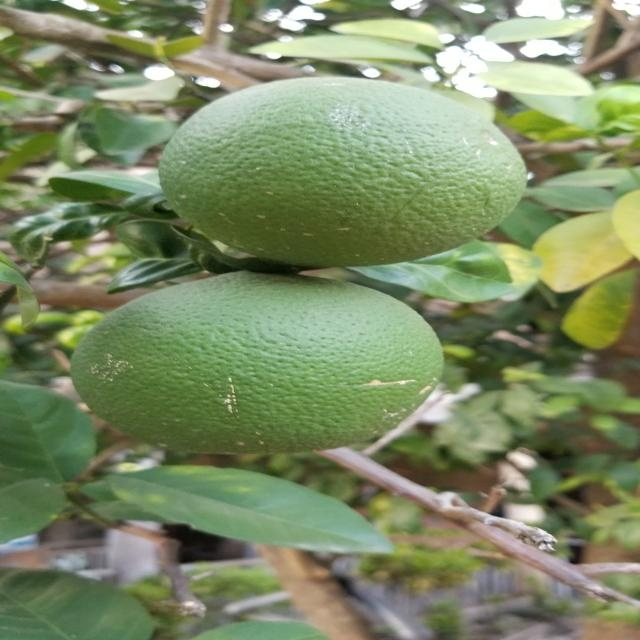agrume: (153, 73, 539, 268), (46, 284, 434, 454)
